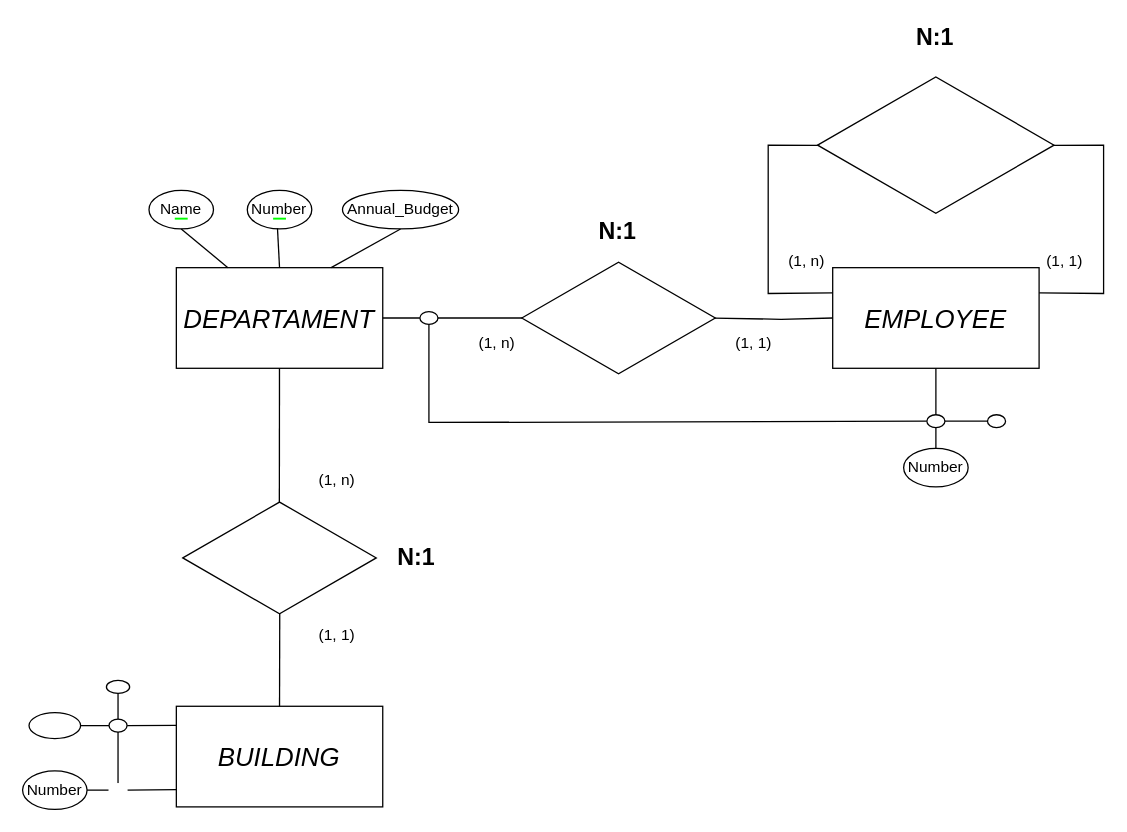
The diagram is 1127 pixels wide and 832 high, and some of its shapes have lost their labels. Each missing label, with the centre of its shape:
City: (54,725)
IS_IN_CHARGE_OF: (935,144)
IS_LOCATED: (279,557)
WORKS: (618,317)
